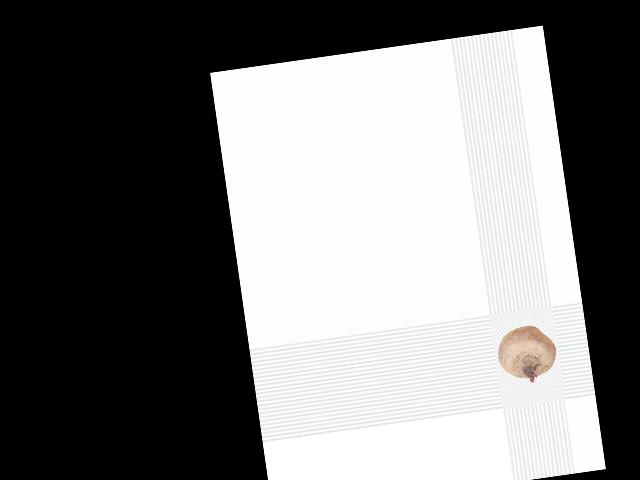beet: (495, 322, 560, 387)
